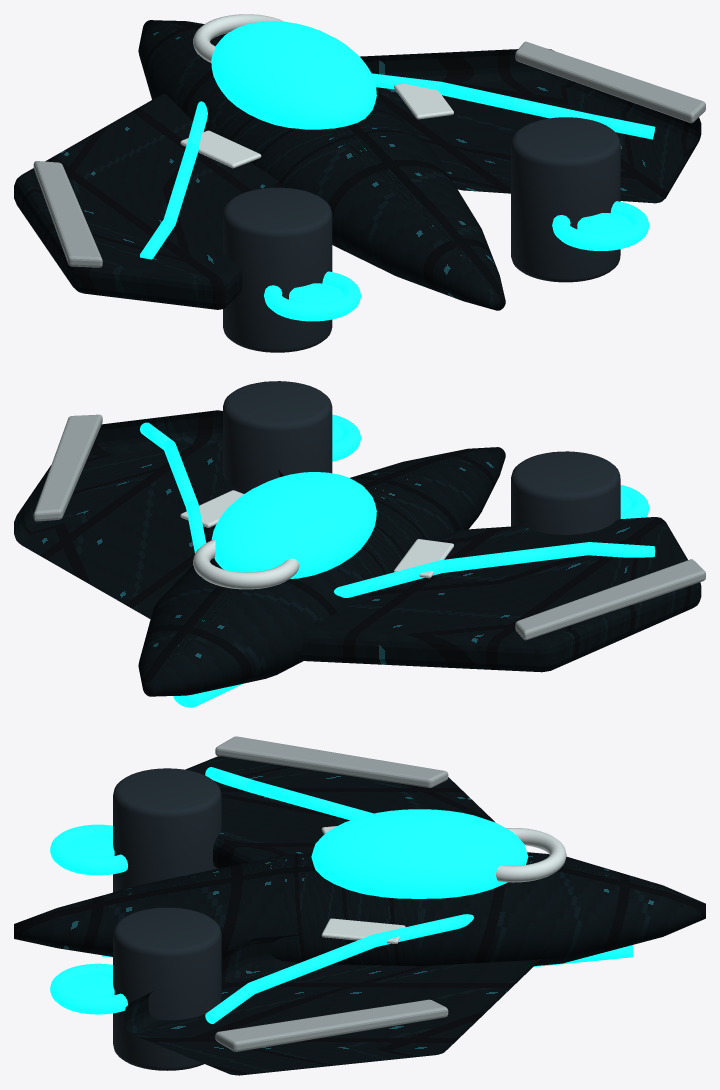
The model's file is pulsePhaseMantaV6.candidate.glb.
3 views of the same model, one above another, from view 1: azimuth 30°, elevation 25°; view 2: azimuth 150°, elevation 25°; view 3: azimuth 270°, elevation 25° (orthographic).
Visible parts, largest first — view 1: runner central phase lance, runner forked manta foil -1, runner forked manta foil 1, runner annular phase drive 1, runner annular phase drive -1, runner faceted phase canopy, runner exposed silver blade edge 1, runner exposed silver blade edge -1, runner cyan drive corona -1, runner cyan drive corona 1, runner exposed phase bus 1 segment 1, runner unmistakable pulse crest (+9 smaller); view 2: runner forked manta foil -1, runner central phase lance, runner forked manta foil 1, runner faceted phase canopy, runner annular phase drive 1, runner annular phase drive -1, runner exposed silver blade edge -1, runner exposed silver blade edge 1, runner unmistakable pulse crest, runner exposed phase bus -1 segment 1, runner exposed phase bus -1 segment 0, runner pulse hash plate -1 (+7 smaller); view 3: runner central phase lance, runner forked manta foil 1, runner faceted phase canopy, runner forked manta foil -1, runner annular phase drive 1, runner annular phase drive -1, runner exposed silver blade edge 1, runner exposed silver blade edge -1, runner cyan drive corona -1, runner cyan drive corona 1, runner unmistakable pulse crest, runner exposed phase bus 1 segment 1 (+8 smaller).
Part boxes in pixels (left/top/right/bottom): runner central phase lance: left=138, top=20, right=505, bottom=310; runner forked manta foil -1: left=14, top=93, right=284, bottom=309; runner forked manta foil 1: left=360, top=49, right=701, bottom=203; runner annular phase drive 1: left=511, top=117, right=620, bottom=282; runner annular phase drive -1: left=223, top=187, right=332, bottom=352; runner faceted phase canopy: left=211, top=21, right=376, bottom=129; runner exposed silver blade edge 1: left=515, top=41, right=705, bottom=123; runner exposed silver blade edge -1: left=33, top=161, right=102, bottom=267; runner cyan drive corona -1: left=264, top=271, right=360, bottom=321; runner cyan drive corona 1: left=552, top=201, right=649, bottom=250; runner exposed phase bus 1 segment 1: left=439, top=82, right=588, bottom=118; runner unmistakable pulse crest: left=193, top=14, right=283, bottom=62; runner forked manta foil -1: left=299, top=517, right=701, bottom=672; runner central phase lance: left=138, top=447, right=505, bottom=696; runner forked manta foil 1: left=14, top=410, right=283, bottom=618; runner faceted phase canopy: left=211, top=472, right=376, bottom=578; runner annular phase drive 1: left=223, top=381, right=332, bottom=491; runner annular phase drive -1: left=511, top=451, right=620, bottom=534; runner exposed silver blade edge -1: left=515, top=559, right=705, bottom=640; runner exposed silver blade edge 1: left=33, top=414, right=102, bottom=521; runner unmistakable pulse crest: left=193, top=539, right=299, bottom=589; runner exposed phase bus -1 segment 1: left=440, top=542, right=590, bottom=572; runner exposed phase bus -1 segment 0: left=334, top=560, right=443, bottom=597; runner pulse hash plate -1: left=394, top=539, right=453, bottom=578; runner central phase lance: left=14, top=852, right=705, bottom=966; runner forked manta foil 1: left=124, top=934, right=543, bottom=1075; runner faceted phase canopy: left=311, top=809, right=528, bottom=898; runner forked manta foil -1: left=185, top=756, right=495, bottom=868; runner annular phase drive 1: left=113, top=907, right=221, bottom=1070; runner annular phase drive -1: left=113, top=768, right=221, bottom=892; runner exposed silver blade edge 1: left=215, top=999, right=448, bottom=1051; runner exposed silver blade edge -1: left=215, top=736, right=448, bottom=787; runner cyan drive corona -1: left=50, top=824, right=127, bottom=875; runner cyan drive corona 1: left=50, top=963, right=127, bottom=1014; runner unmistakable pulse crest: left=496, top=828, right=566, bottom=882; runner exposed phase bus 1 segment 1: left=251, top=934, right=378, bottom=993.
Size of the model in its own units: 3.89 by 0.95 by 3.7.
Materials: 5 (1 with a texture image).
